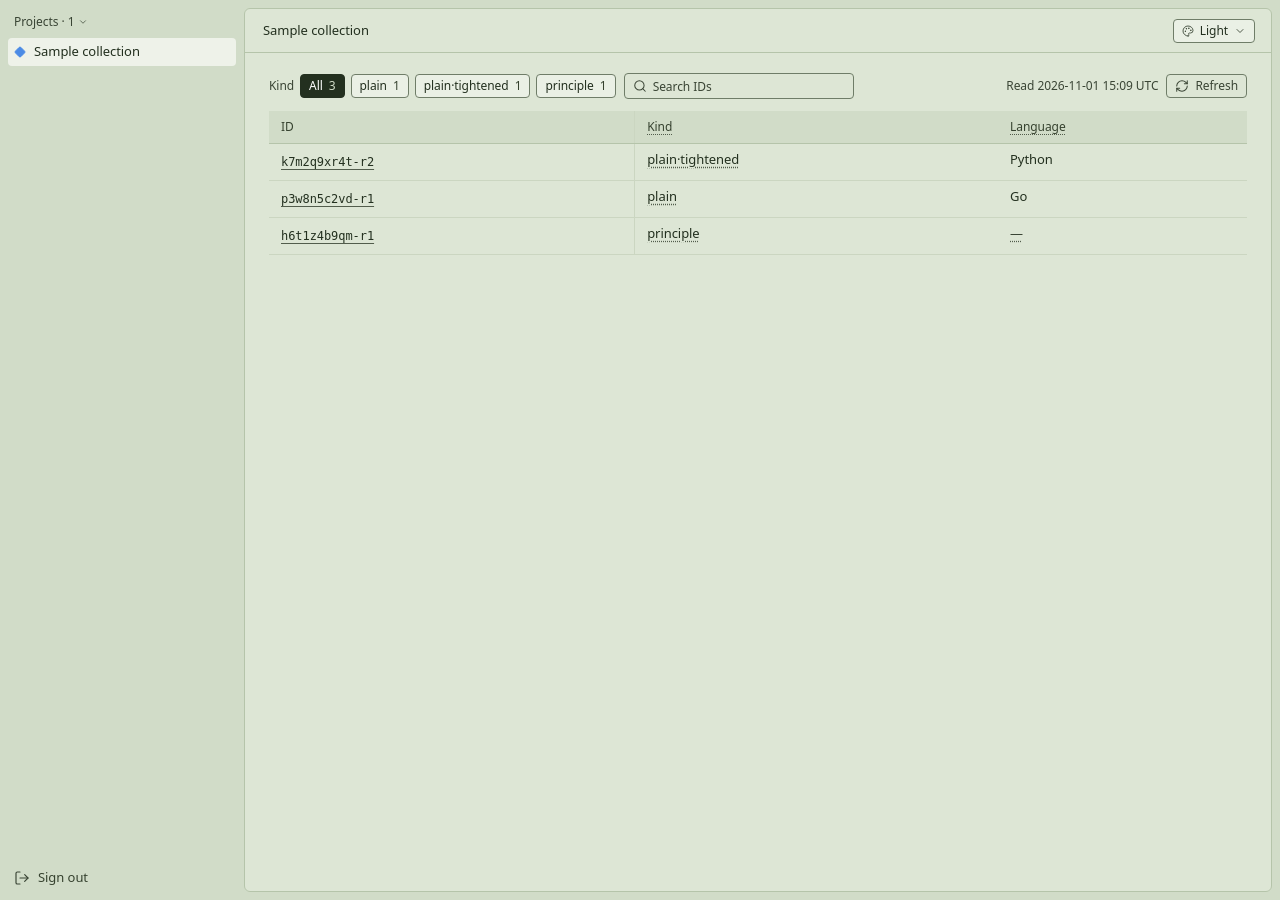
Test case: the share site's sign-in › asks for a token again after a sign-out
The image size is (1280, 900).
Click the button "Sign out" at (122, 878), box left=8, top=864, right=236, bottom=892
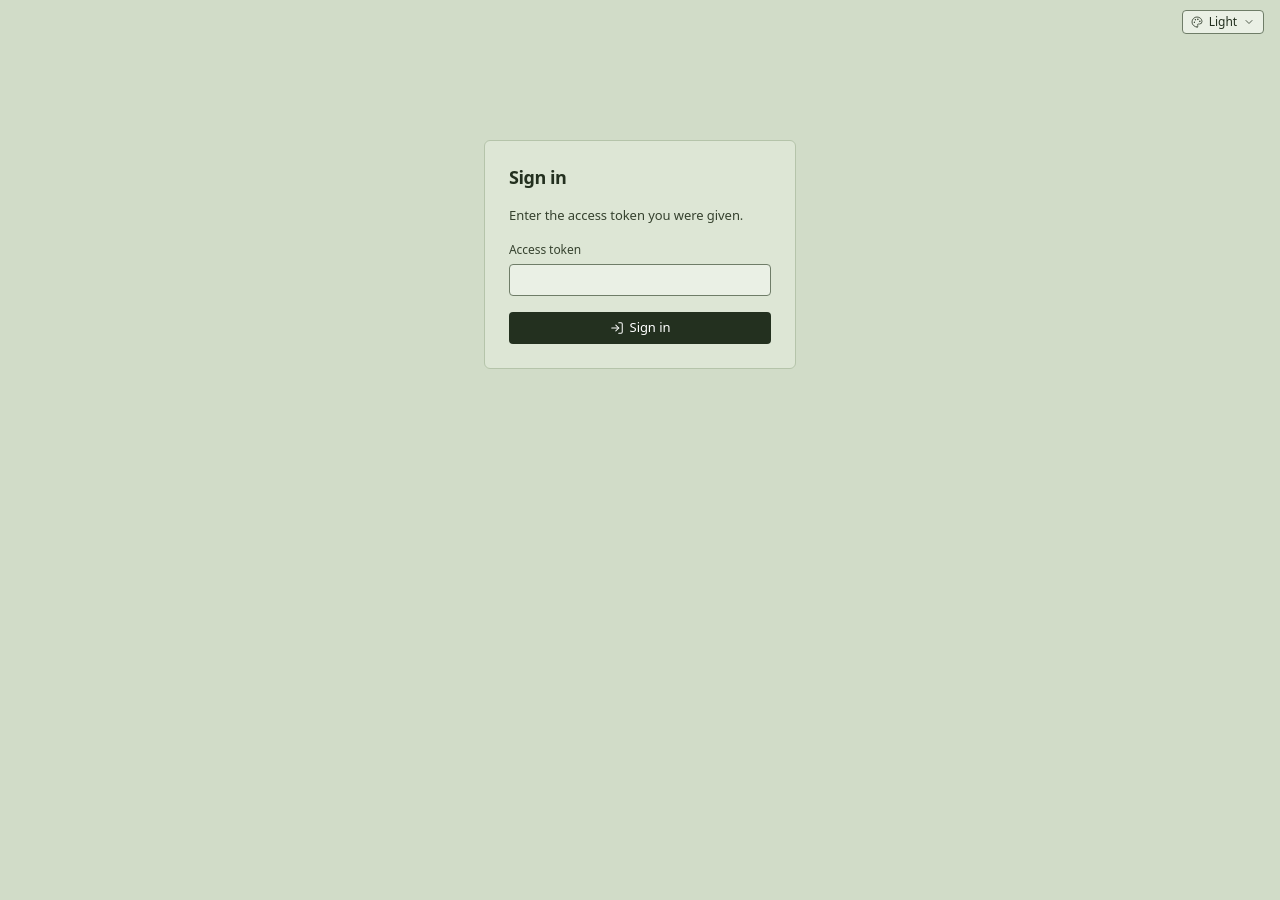
Expected: the password field labelled "Access token" is shown, left=509, top=264, right=771, bottom=296
